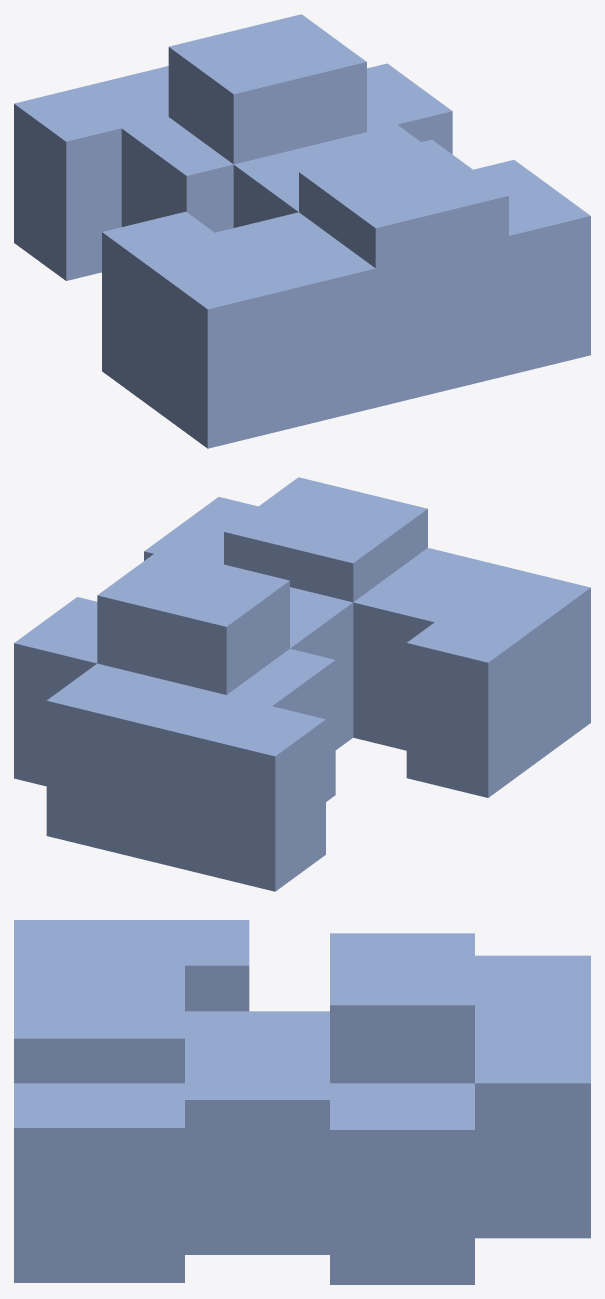
File: bulut1.fbx
3 views of the same model, one above another, from view 1: azimuth 30°, elevation 25°; view 2: azimuth 150°, elevation 25°; view 3: azimuth 270°, elevation 25° (orthographic). The views are drawn at different scales.
Visible parts, largest first — view 1: Cube; view 2: Cube; view 3: Cube.
Part boxes in pixels (left/top/right/bottom): Cube: left=14, top=14, right=590, bottom=448; Cube: left=14, top=477, right=590, bottom=891; Cube: left=14, top=920, right=590, bottom=1284.
Bounding box in the file's own units: 581 × 301 × 675.
